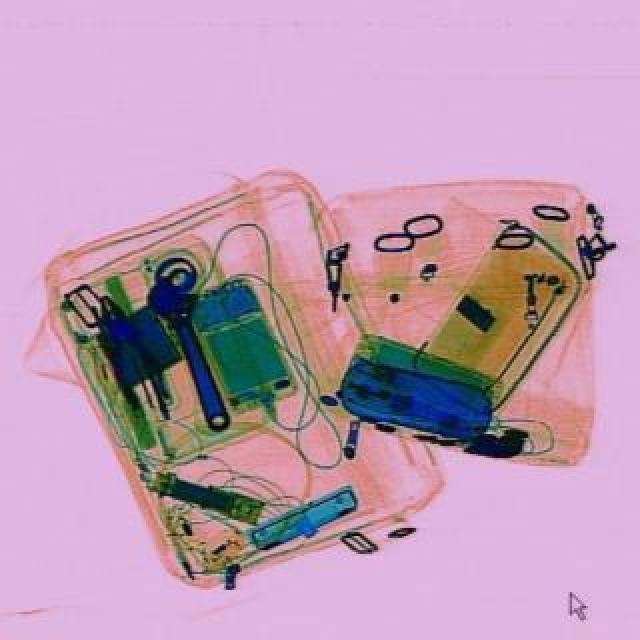scissors: (136, 266, 248, 438)
wrench: (82, 288, 170, 412)
